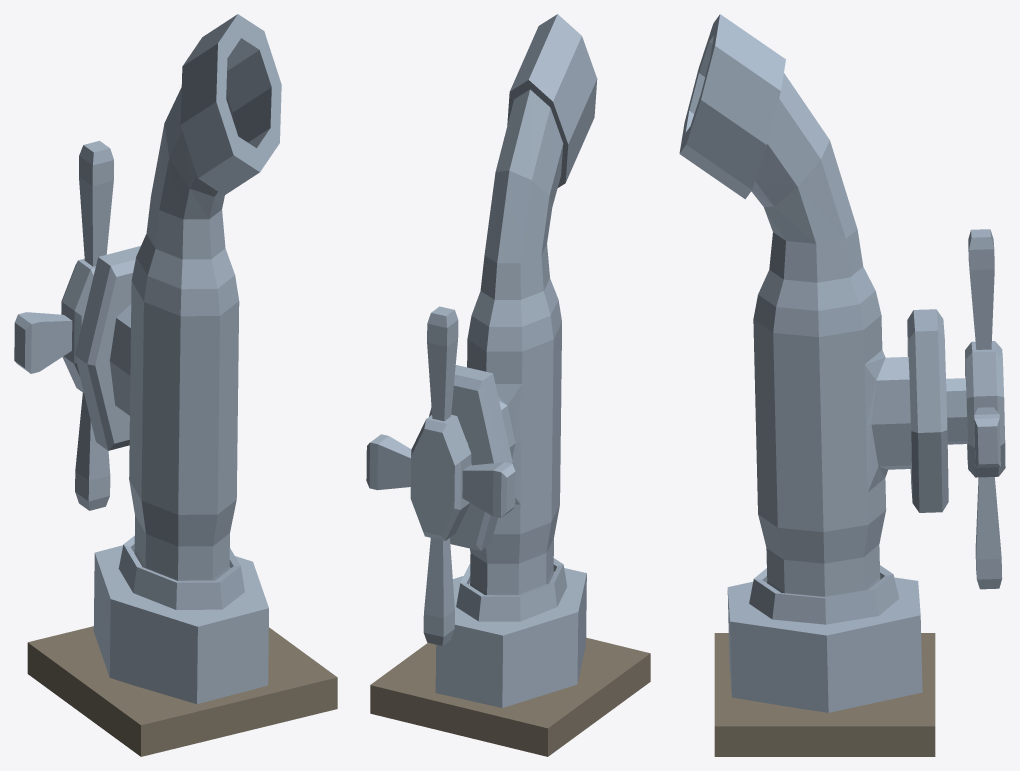
Rendered from Hose.gltf.
3 renders of one model, left to right at view 1: azimuth 30°, elevation 25°; view 2: azimuth 150°, elevation 25°; view 3: azimuth 270°, elevation 25°, orthographic. The views are drawn at different scales.
Visible parts, largest first — view 1: buffer-0-mesh-0, Box; view 2: buffer-0-mesh-0, Box; view 3: buffer-0-mesh-0, Box.
Boxes of the visible parts, bbox=[...] form: buffer-0-mesh-0: bbox=[14, 14, 281, 703]; Box: bbox=[27, 626, 337, 756]; buffer-0-mesh-0: bbox=[366, 14, 597, 707]; Box: bbox=[370, 637, 650, 756]; buffer-0-mesh-0: bbox=[679, 14, 1005, 712]; Box: bbox=[714, 633, 935, 756].
Bounding box in the file's own units: 1 × 3.48 × 1.48.
